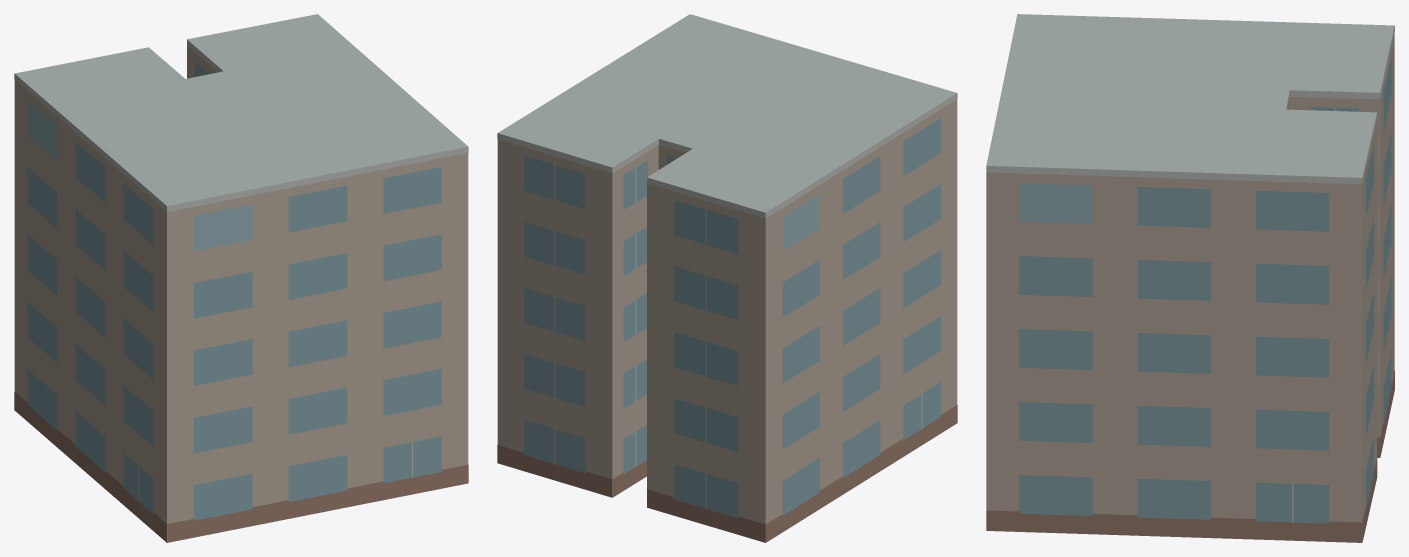
File: survey-upis-33041582.glb
3 renders of one model, left to right at view 1: azimuth 30°, elevation 25°; view 2: azimuth 150°, elevation 25°; view 3: azimuth 270°, elevation 25°, orthographic. The views are drawn at different scales.
Visible parts, largest first — view 1: survey-upis-33041582.tmp; view 2: survey-upis-33041582.tmp; view 3: survey-upis-33041582.tmp.
Boxes of the visible parts, <box> form: survey-upis-33041582.tmp: <box>14,14,468,542</box>; survey-upis-33041582.tmp: <box>497,14,957,542</box>; survey-upis-33041582.tmp: <box>986,14,1394,542</box>.
Size of the model in its own units: 13.01 by 13.5 by 13.7.
